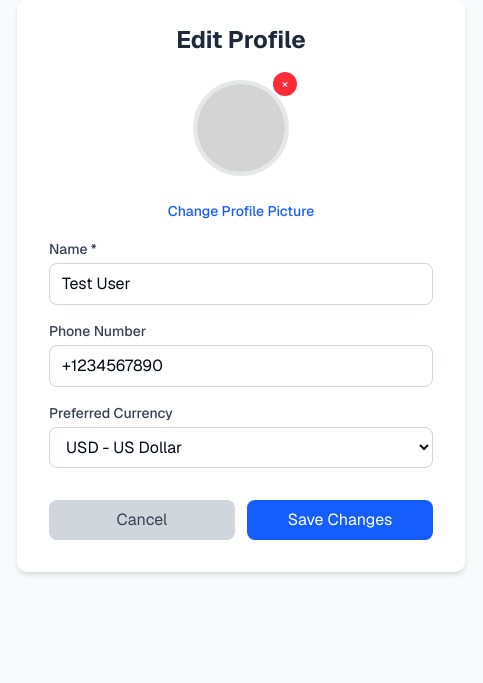
Test: ProfileEditForm › should handle form submission with validation errors
This screenshot has width=483, height=683.
Click the button "Save Changes" at (340, 520), box [247,500,433,540]
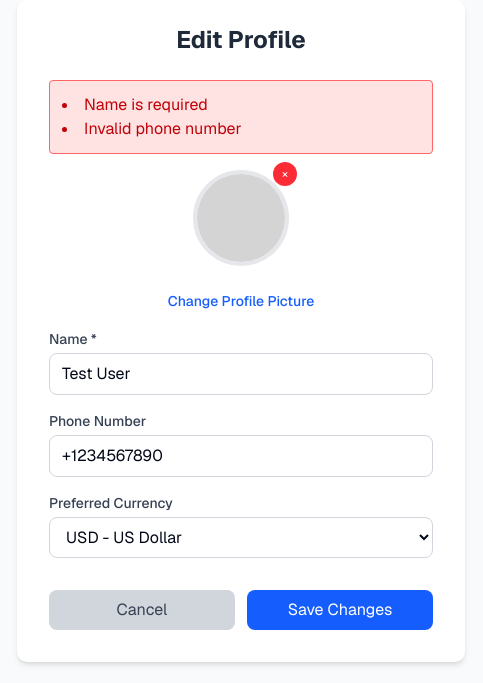
Result: the list item "Name is required" is shown at [84,94,208,115]
Result: the list item "Invalid phone number" is shown at [84,118,242,139]
